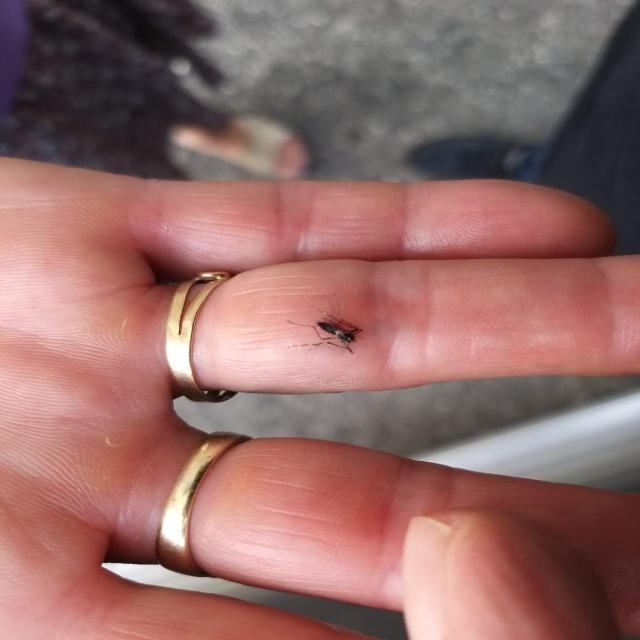albopictus: (279, 301, 369, 361)
